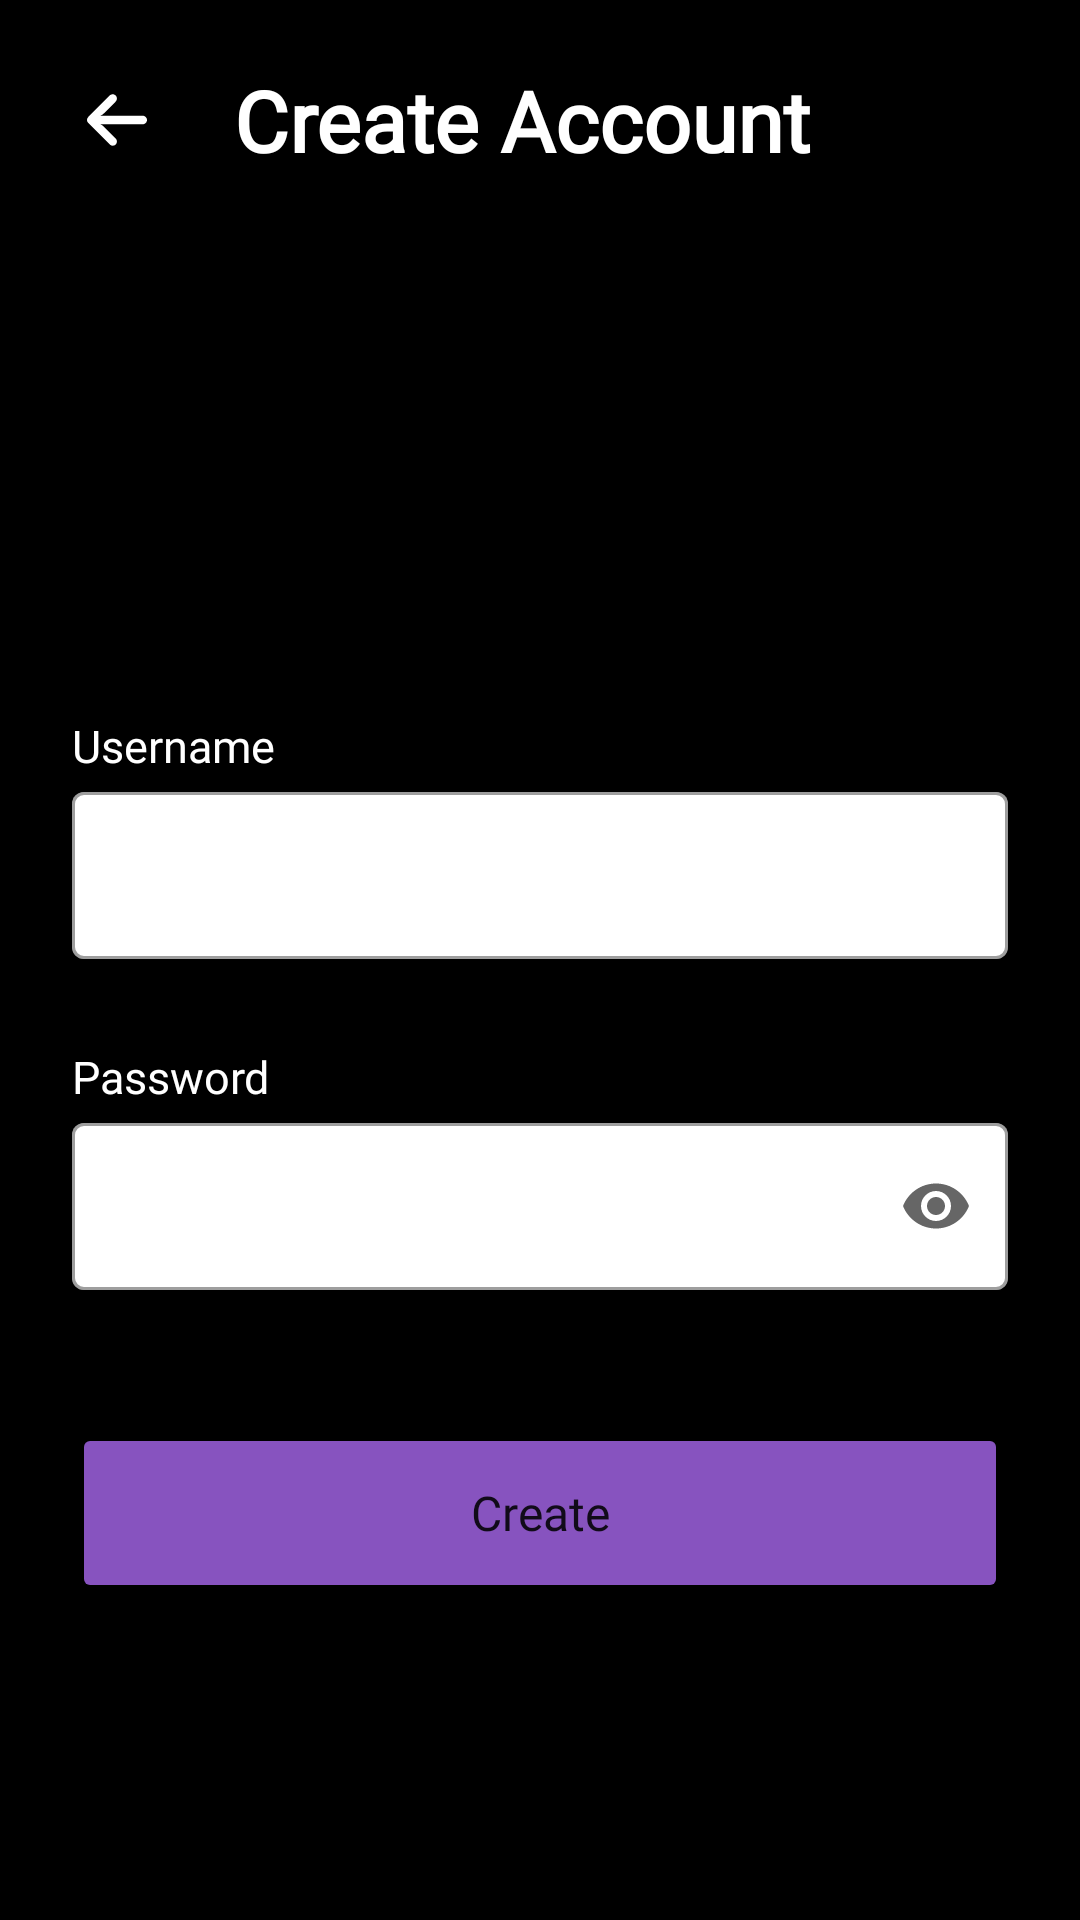

Icons on this 1080 × 1920 Android screen, each with the point to tap as point (x, y):
arrow: point (117, 120)
